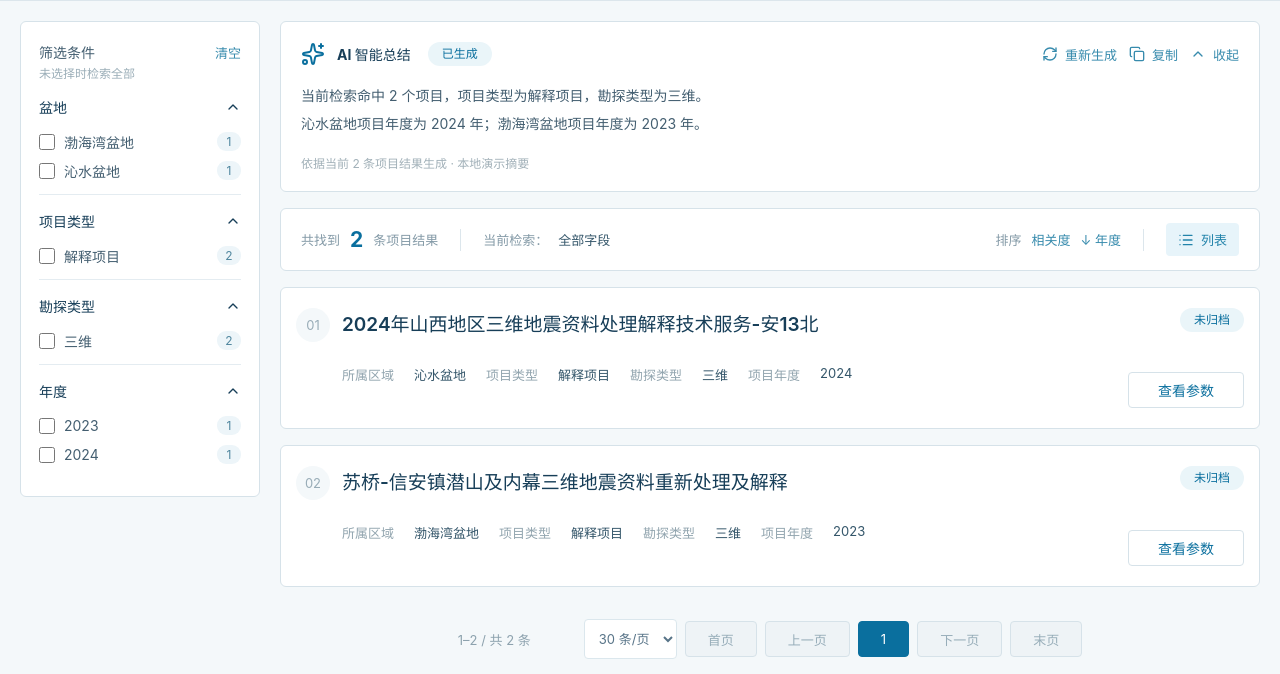
搜索的最终结果计数与交互 › 勾选组合立即更新且清空只清复选条件
The image size is (1280, 674).
(page scrolled)
Click the checkbox labelled "2024 1".
click(47, 455)  # box [39,447,55,463]
(page scrolled)
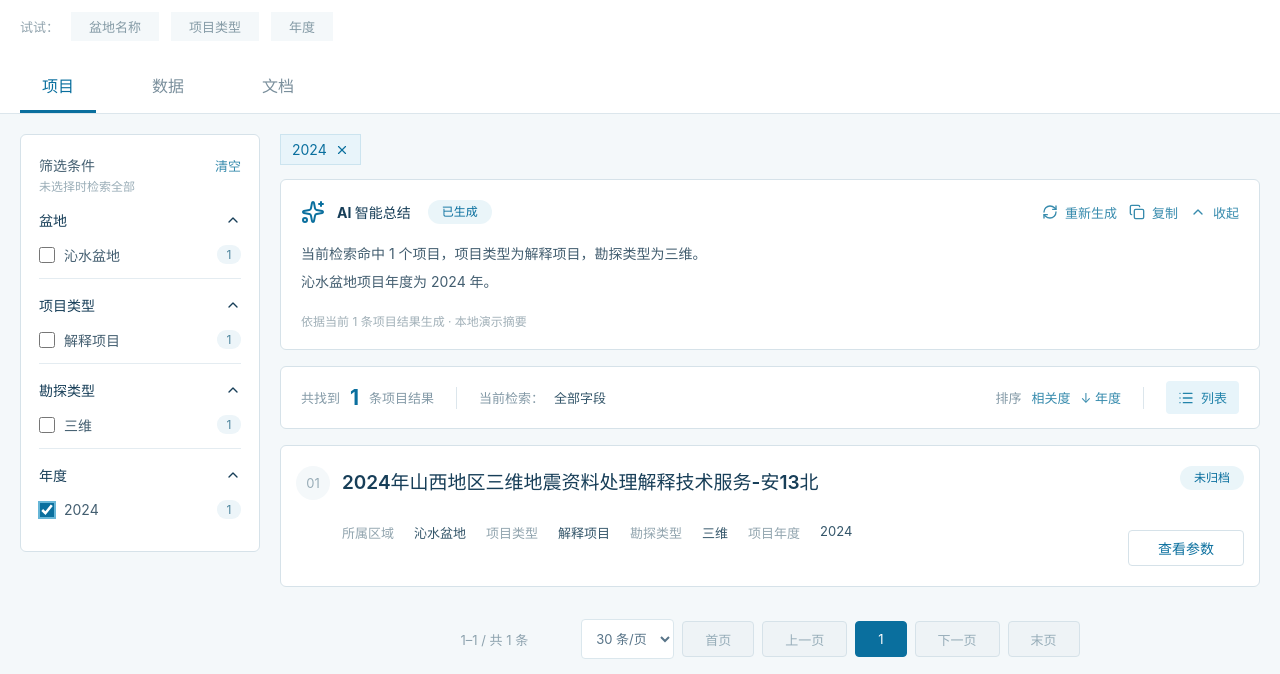
Expected: the text named "项目结果数量" reads "1", [350,385,359,410]
Expected: the text "2023" is gone
Click the checkbox labelled "沁水盆地 1".
click(47, 255)  # box [39,247,55,263]
(page scrolled)
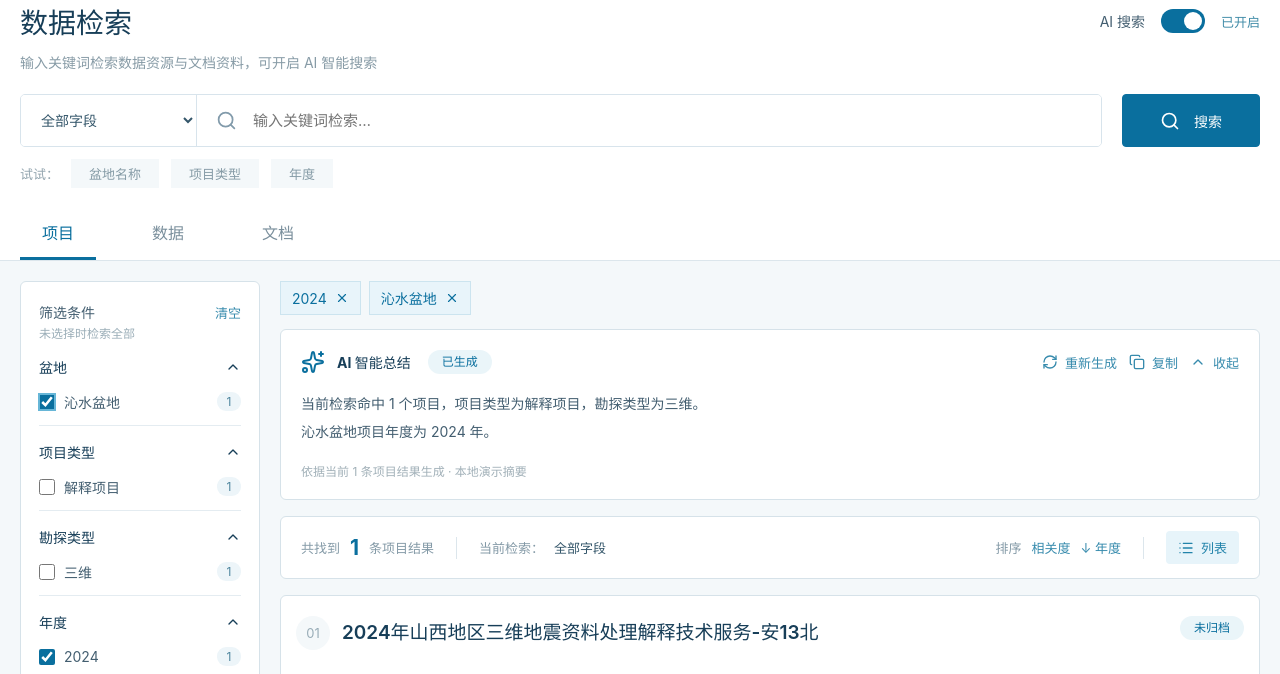
Expected: the element named "已选筛选条件" shows "2024", [280,281,361,315]
Type "安13" into the field named "检索关键词".
click(669, 121); type("安13")  # box [237,95,1101,146]
Then press Enter
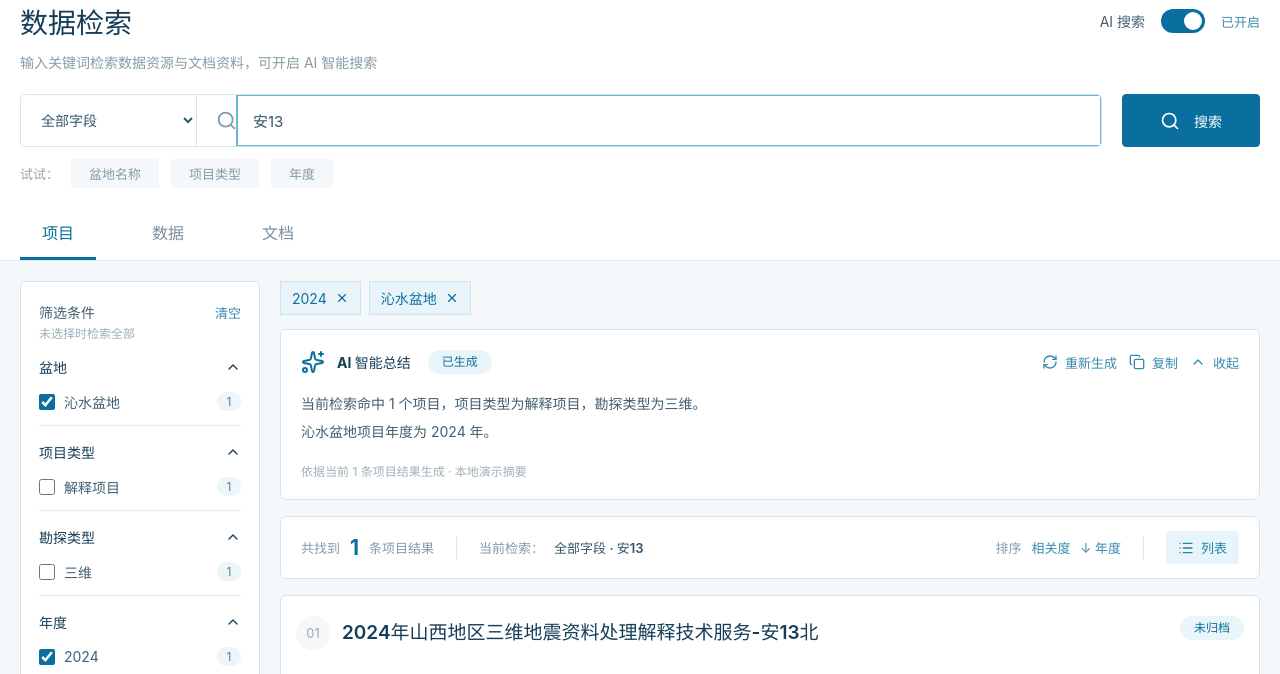
Click the button "清空".
click(228, 312)  # box [215,300,241,324]
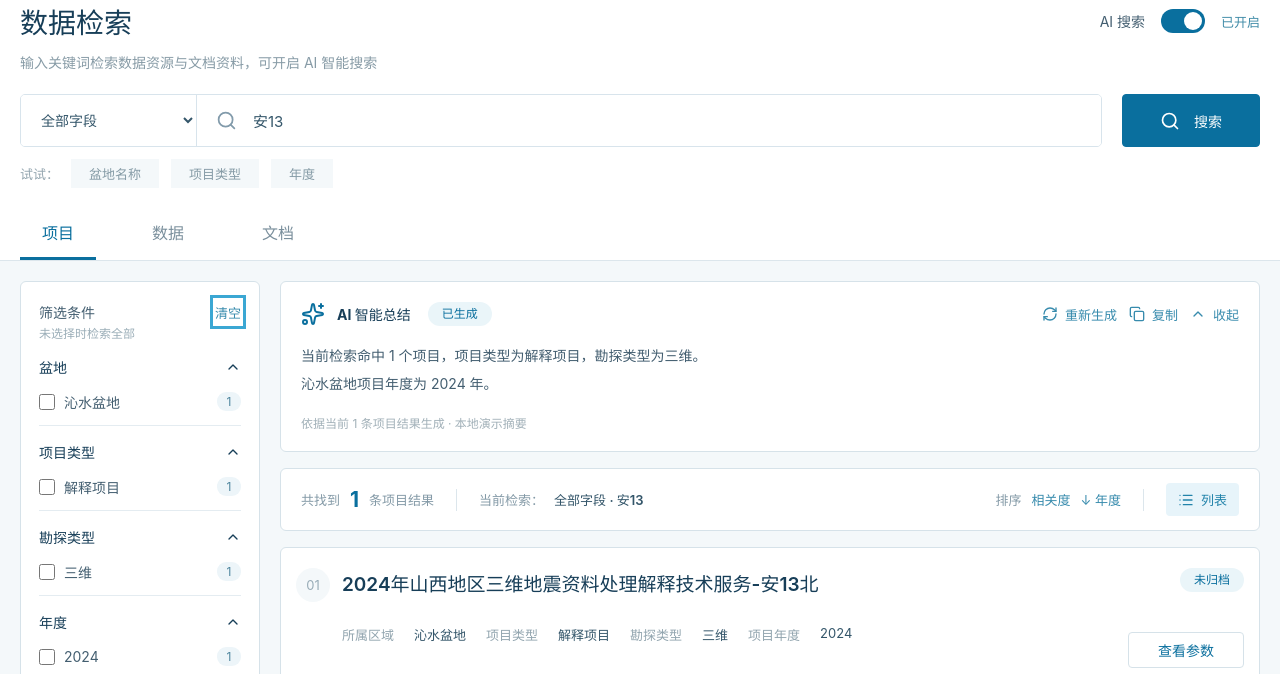
Expected: the text named "项目结果数量" reads "1", [350,487,359,512]
Expected: the field labelled "已选筛选条件" is gone
